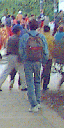person: (21, 18, 45, 101)
